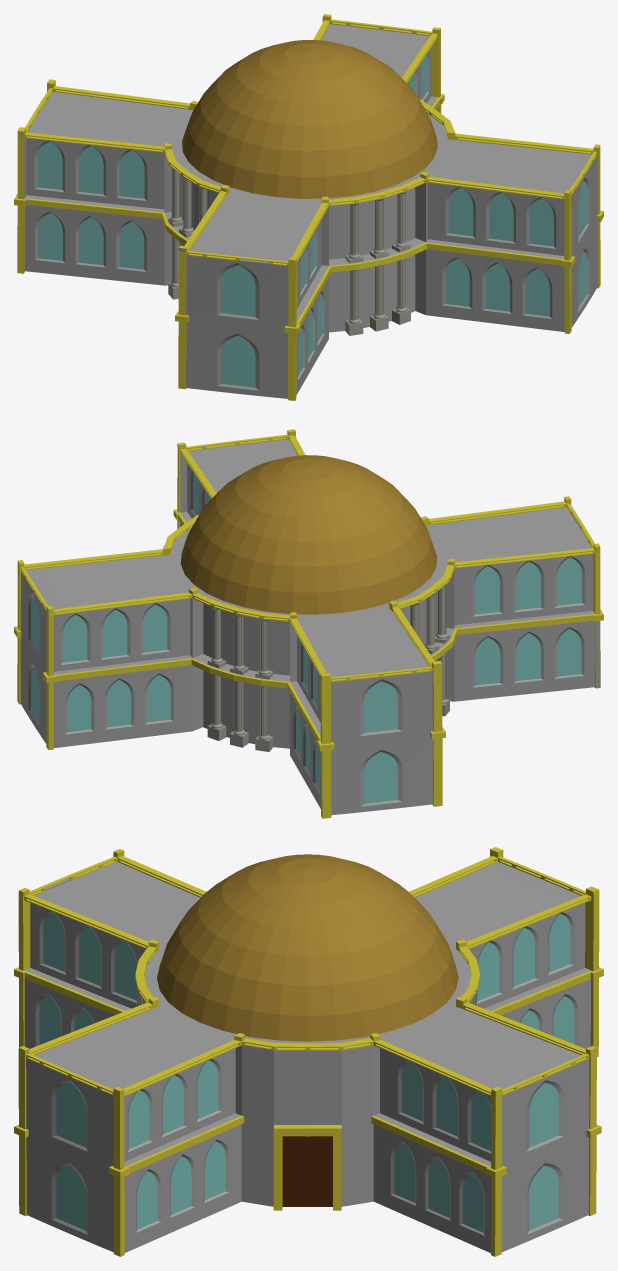
Rendered from MuseumColorsFix.fbx.
3 renders of one model, top to bottom at view 1: azimuth 30°, elevation 25°; view 2: azimuth 150°, elevation 25°; view 3: azimuth 270°, elevation 25°, orthographic. The views are drawn at different scales.
Parts seen in each view (by area): view 1: Cylinder, Sphere, Cube.001; view 2: Cylinder, Sphere, Cube.001; view 3: Cylinder, Sphere.
Part boxes in pixels (x1,y1,x2,y2): Cylinder: (14,14,603,400); Sphere: (182,40,437,198); Cube.001: (168,168,410,335); Cylinder: (14,429,603,818); Sphere: (180,455,437,614); Cube.001: (207,584,449,751); Cylinder: (14,847,603,1256); Sphere: (157,854,458,1041).
Size of the model in its own units: 3398 by 1713 by 3422.
